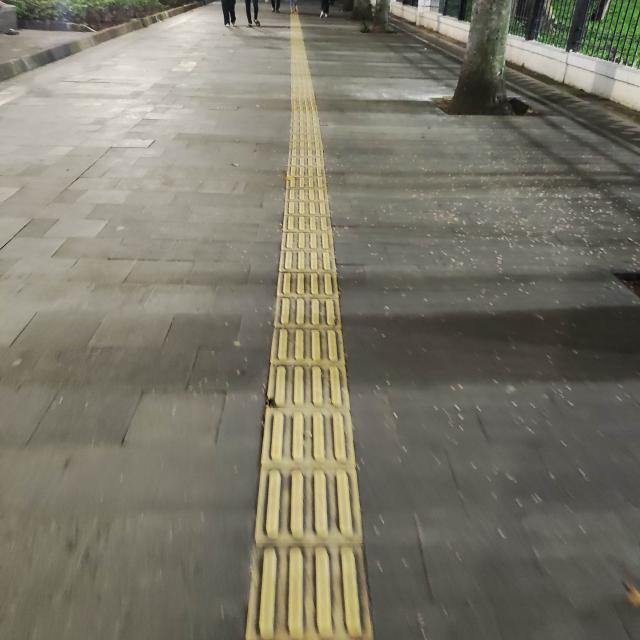lurus: (254, 50, 362, 640)
